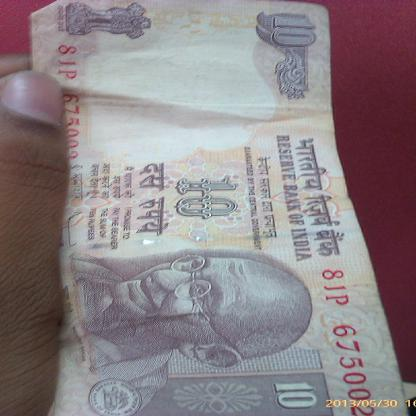Old10Front: (27, 0, 410, 416)
